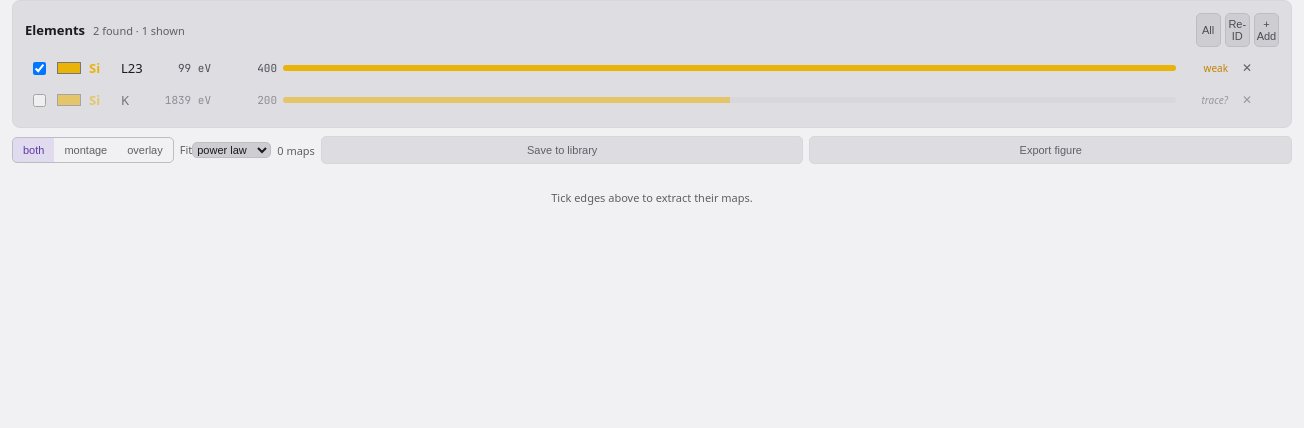
Test: EelsMapsTab › re-picking a removed element from the periodic table restores every edge for it
expect the number of checkboxes named "Show Si" is 2: met, box [33,62,46,74]; [33,94,46,106]
Click the button named "Remove Si". click: click(1247, 68)
box: [1234,55,1260,81]
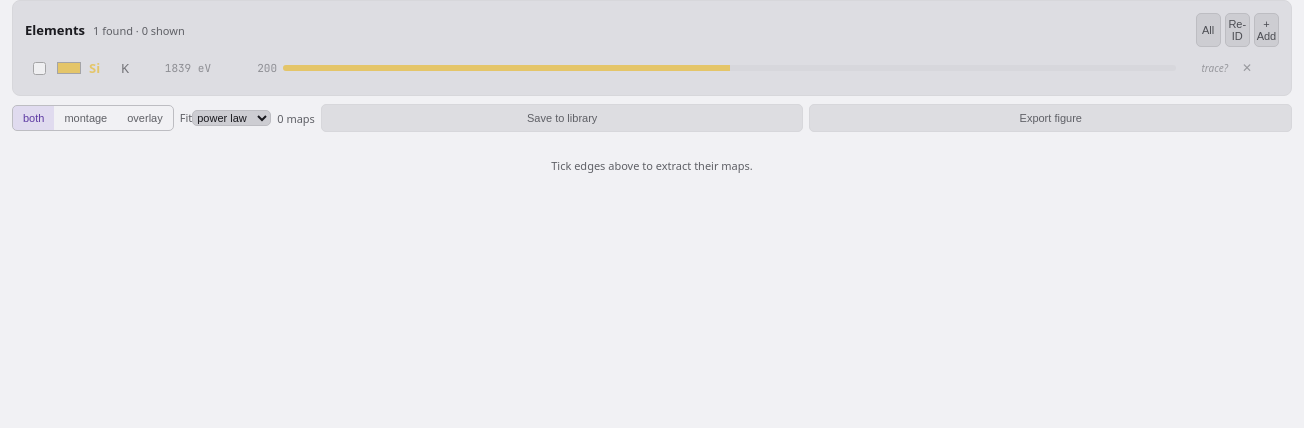
Click the button named "Remove Si". click: click(1247, 68)
box: [1234,55,1260,81]
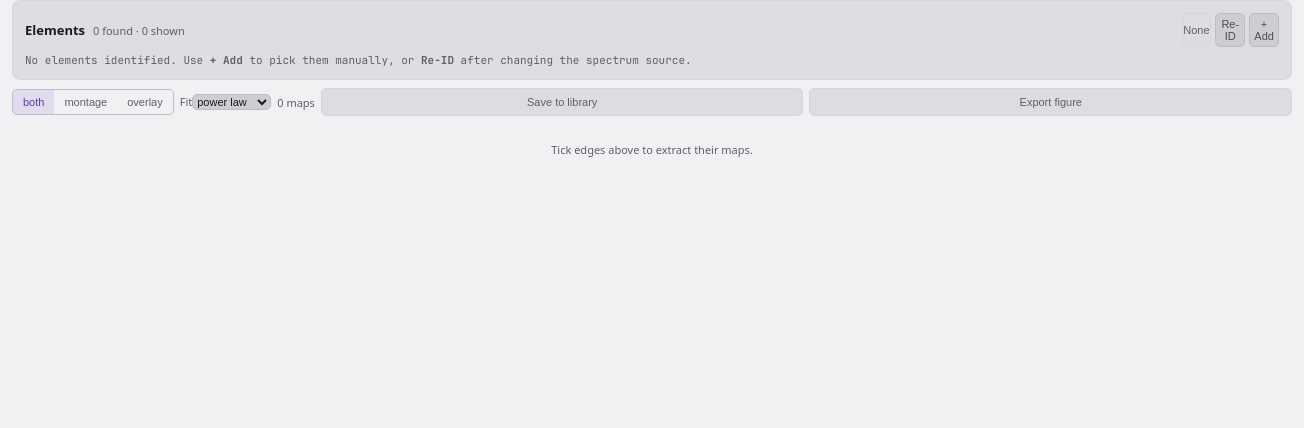
Click the button "+ Add". click: click(1264, 30)
box: [1249,13,1279,47]
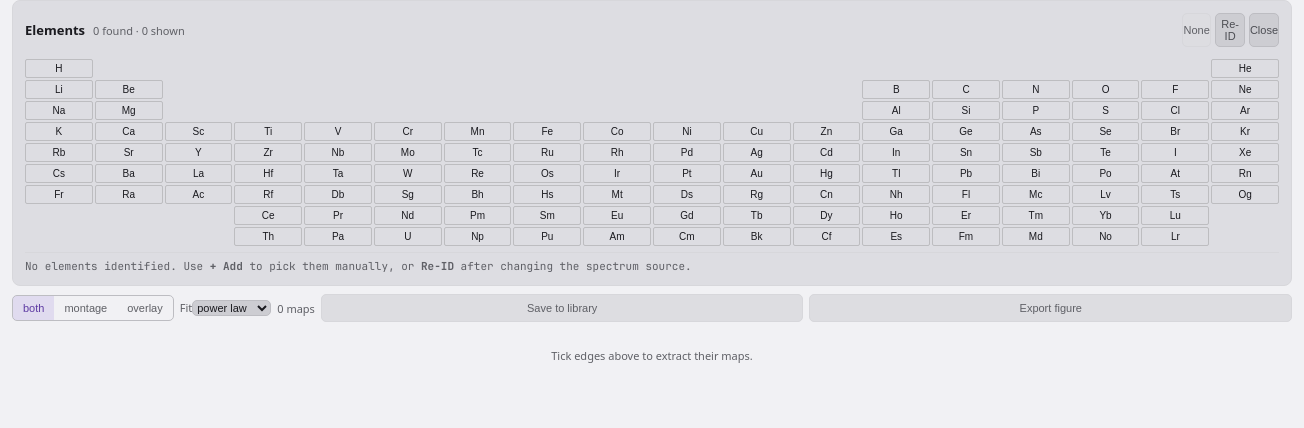
Click the button "Si". click: click(966, 110)
box: [932,101,1000,120]
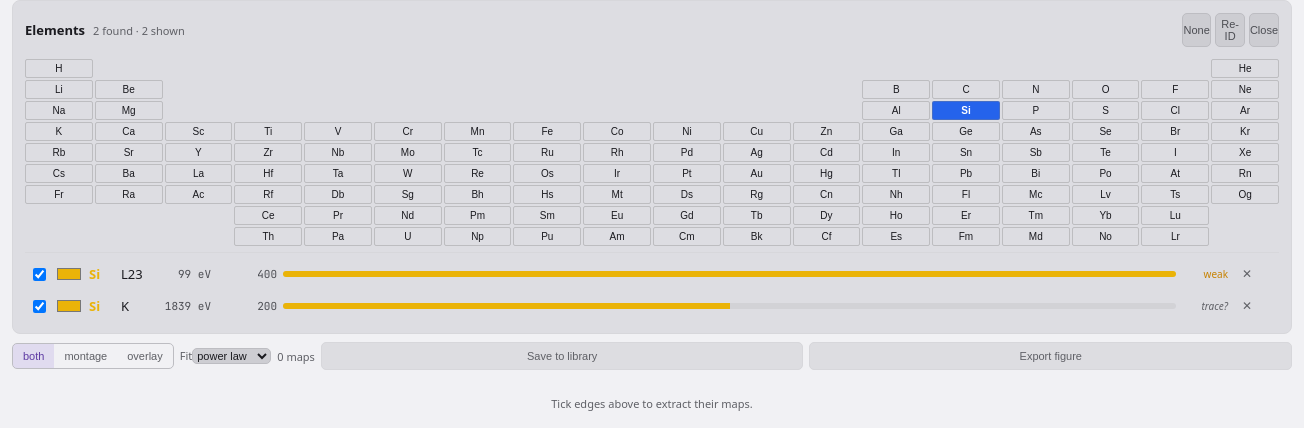
expect the number of checkboxes named "Show Si" is 2: met, box [33,268,46,280]; [33,300,46,312]
